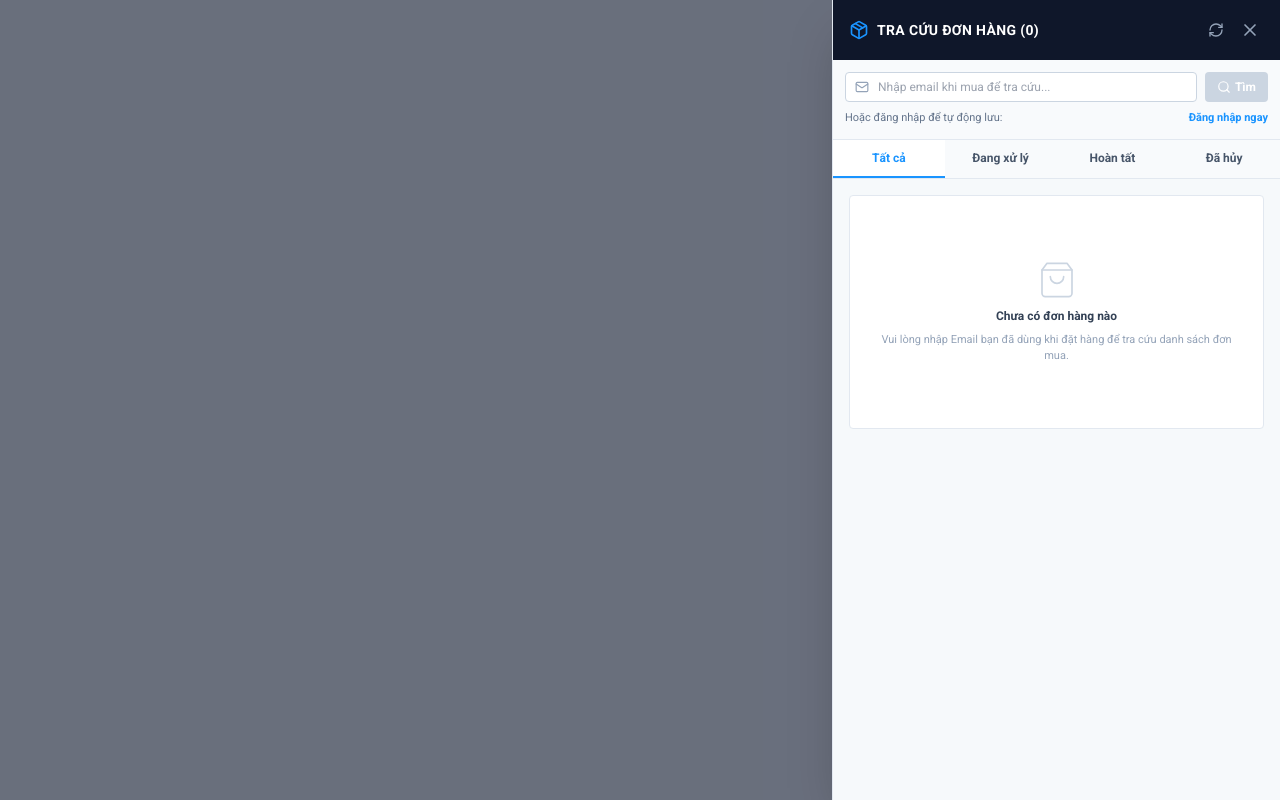
Test: OrderHistoryDrawer Component › cho phép khách vãng lai tra cứu đơn hàng theo Email
Expected: the heading "TRA CỨU ĐƠN HÀNG (0)" is shown, [877,20,1039,40]
Type "guest_test@ecommerce.vn" into the field with placeholder "Nhập email khi mua để tra cứu..." at (1021, 87), box [845,72,1197,102]
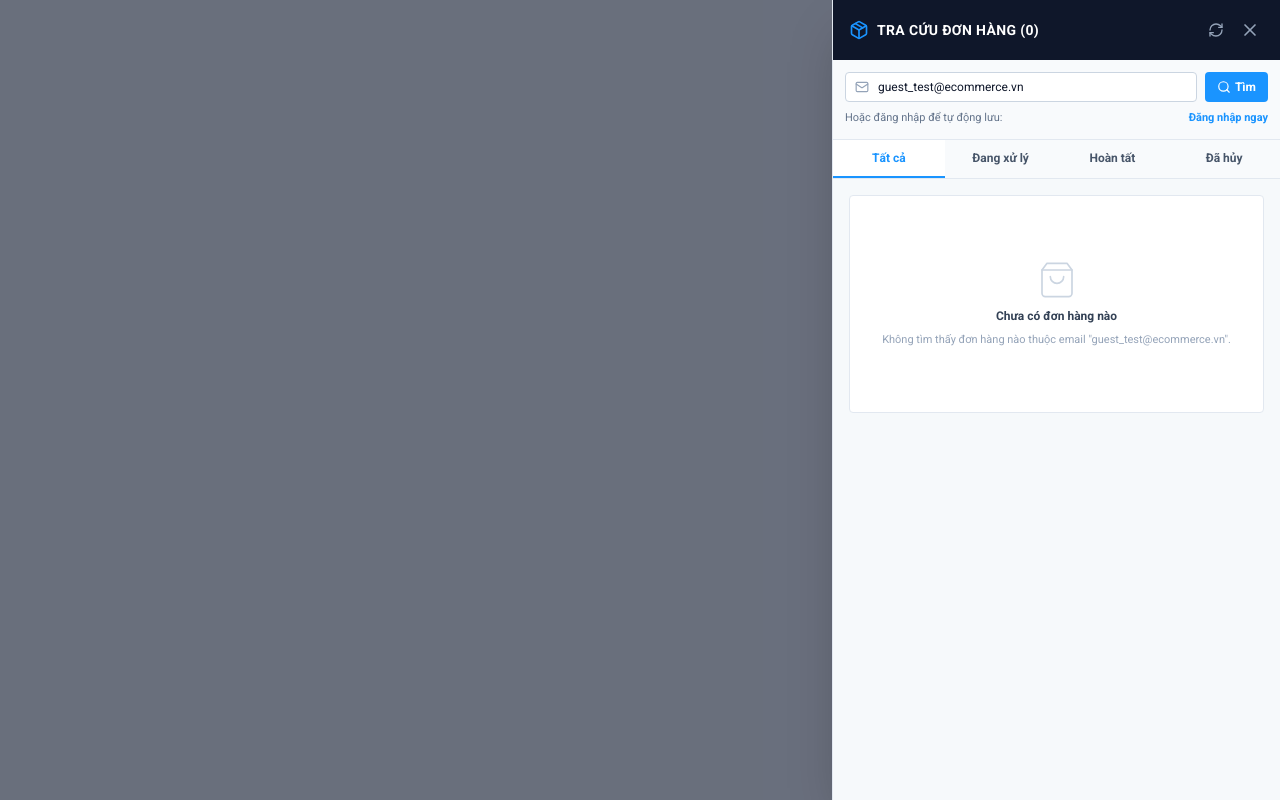
Click the button "Tìm" at (1236, 87), box [1205,72,1268,102]
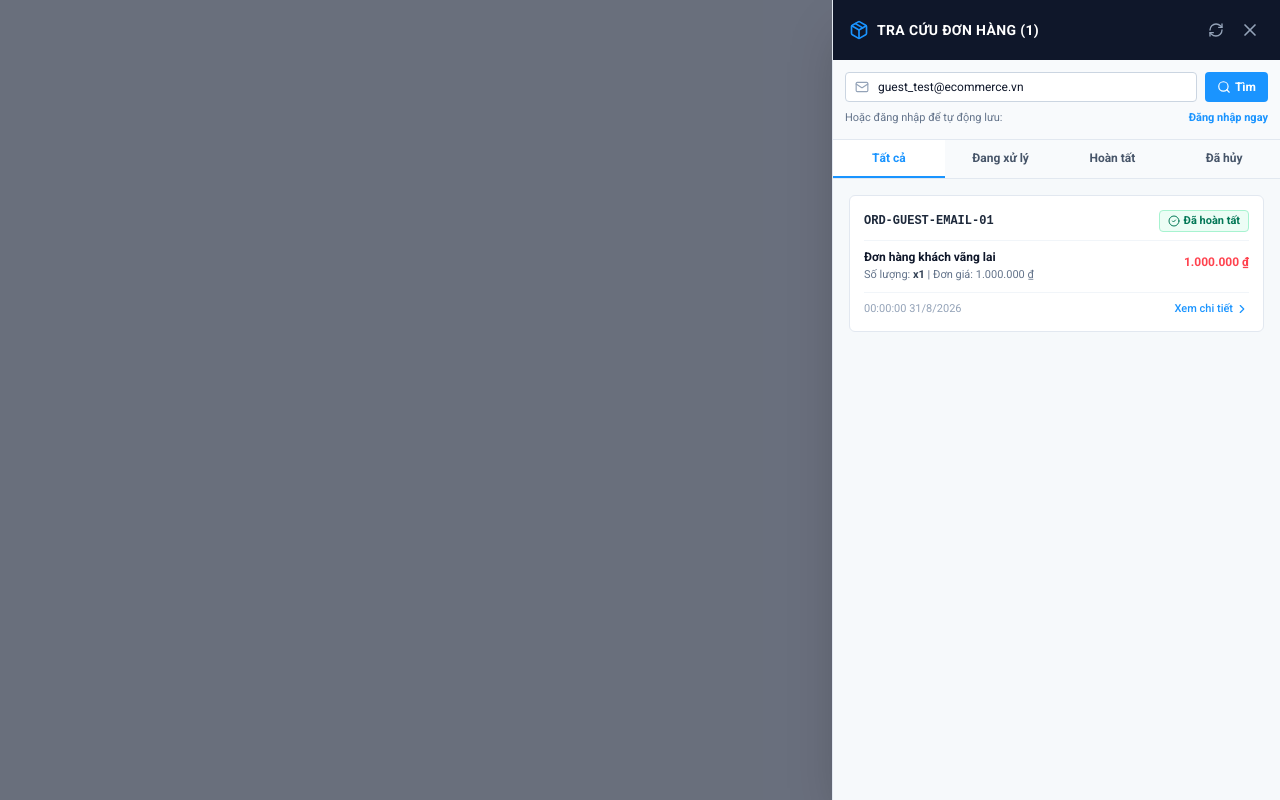
Result: the text "ORD-GUEST-EMAIL-01" is shown at [864,213,994,229]
Result: the heading "Đơn hàng khách vãng lai" is shown at [864,250,996,264]
